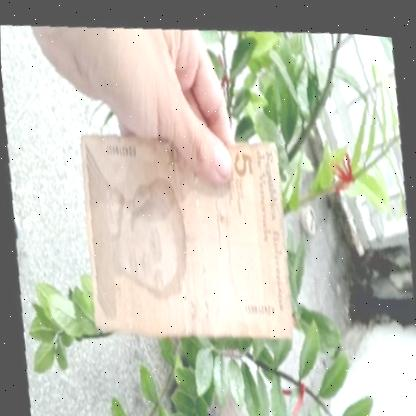five-front-vef: (68, 107, 302, 356)
